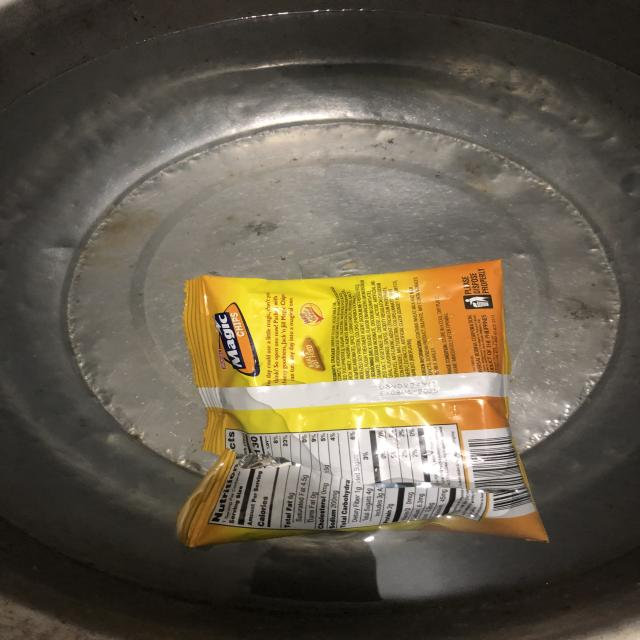Plastic Wrapper: (178, 261, 547, 545)
